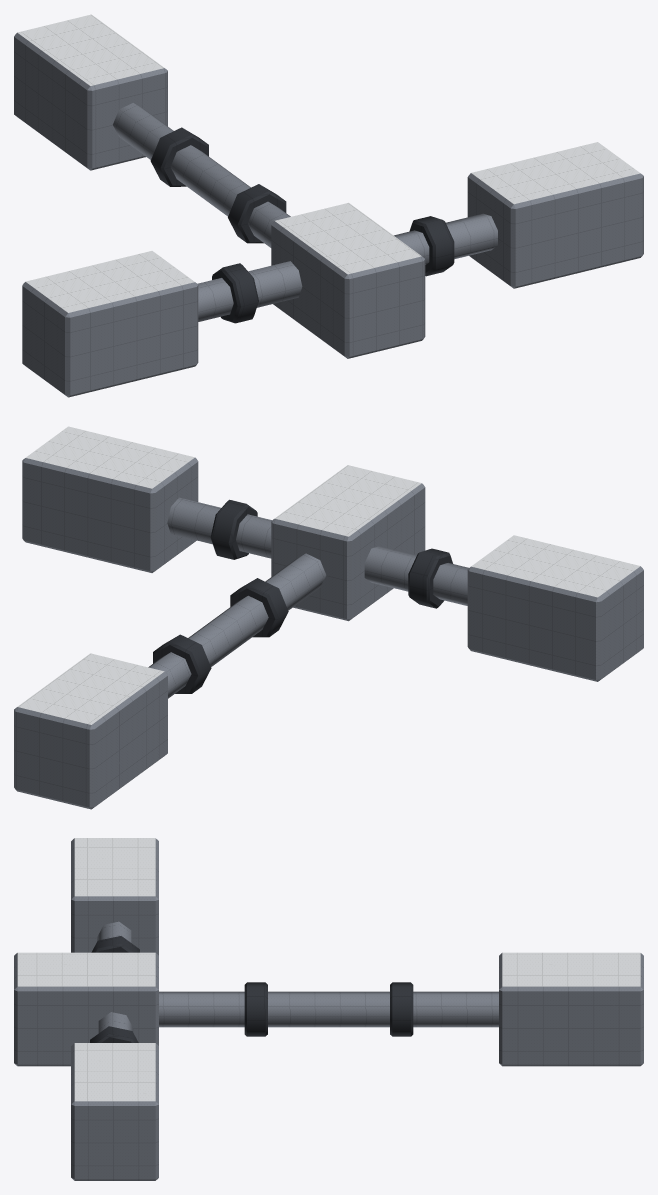
Rendered from R4C_ROD_T_LOD1.glb.
The picture shows the model from 3 angles, top to bottom: view 1: azimuth 30°, elevation 25°; view 2: azimuth 150°, elevation 25°; view 3: azimuth 270°, elevation 25°; orthographic projection. The views are drawn at different scales.
Parts seen in each view (by area): view 1: R4C_ROD_T_LOD1; view 2: R4C_ROD_T_LOD1; view 3: R4C_ROD_T_LOD1.
Boxes of the visible parts, x1=… form: R4C_ROD_T_LOD1: x1=14, y1=14, x2=643, y2=397; R4C_ROD_T_LOD1: x1=14, y1=426, x2=643, y2=809; R4C_ROD_T_LOD1: x1=14, y1=838, x2=643, y2=1180.
Size of the model in its own units: 1.62 by 0.226 by 1.62.
Materials: 3 (3 with a texture image).
